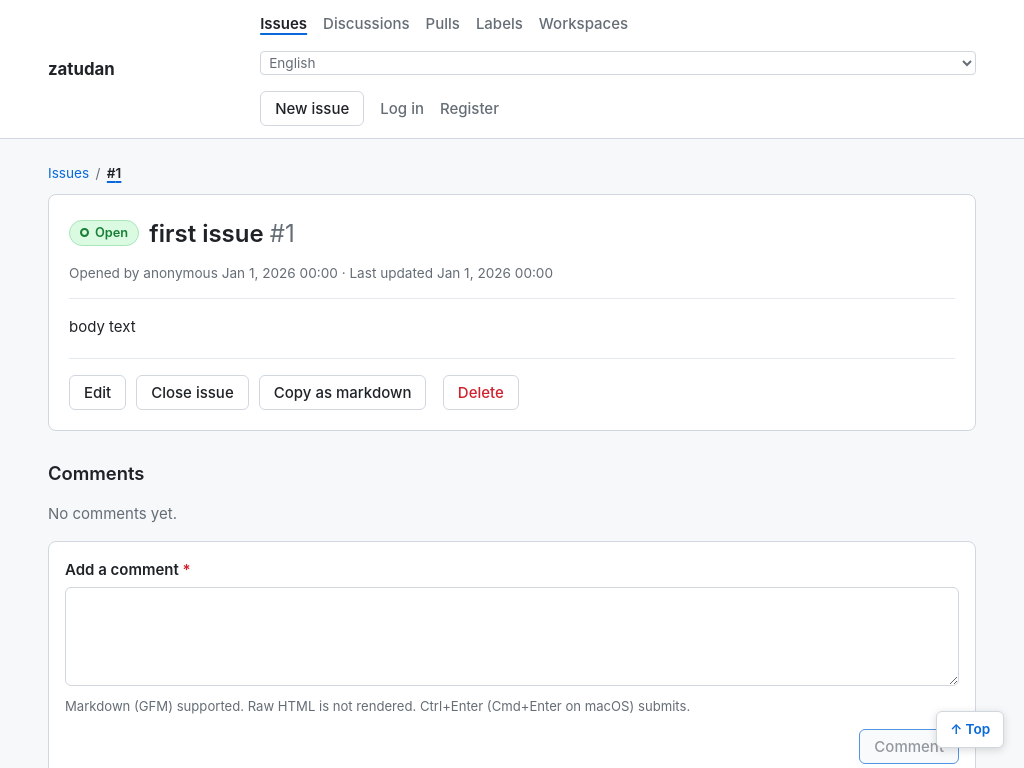
it: route: /issues/$issueId › copies the issue as markdown via the export endpoint
This screenshot has width=1024, height=768.
Click the button "Copy as markdown": (343, 392) [259,375,426,410]
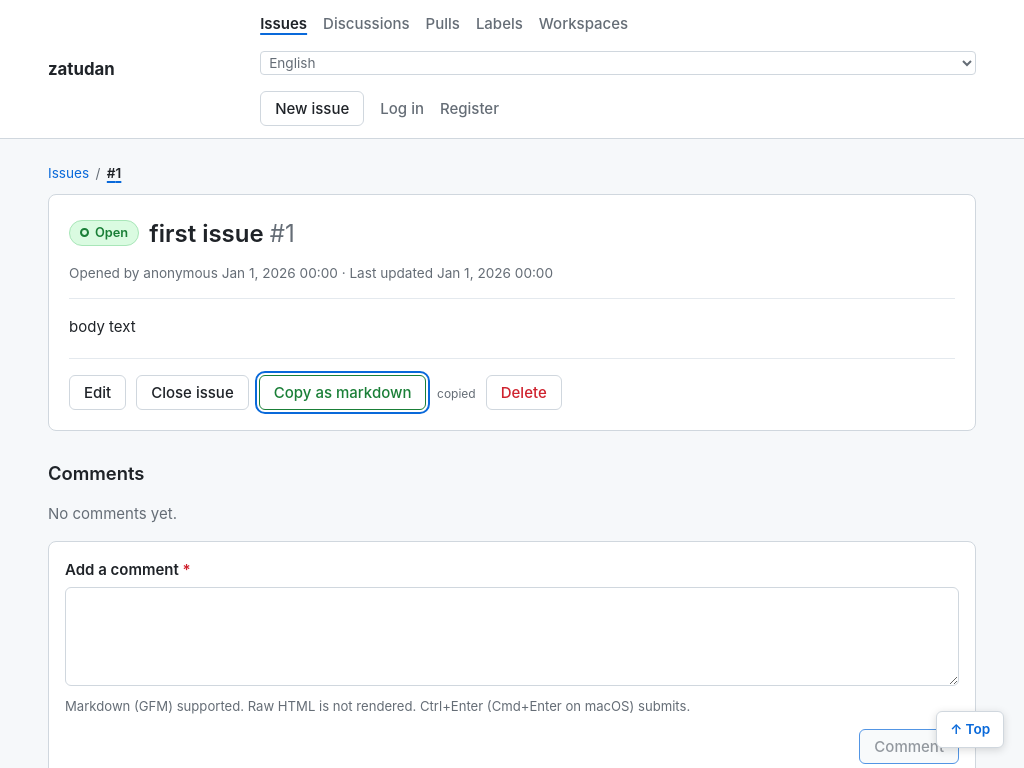
Check: the text "copied" is shown, box [437,386,476,401]
